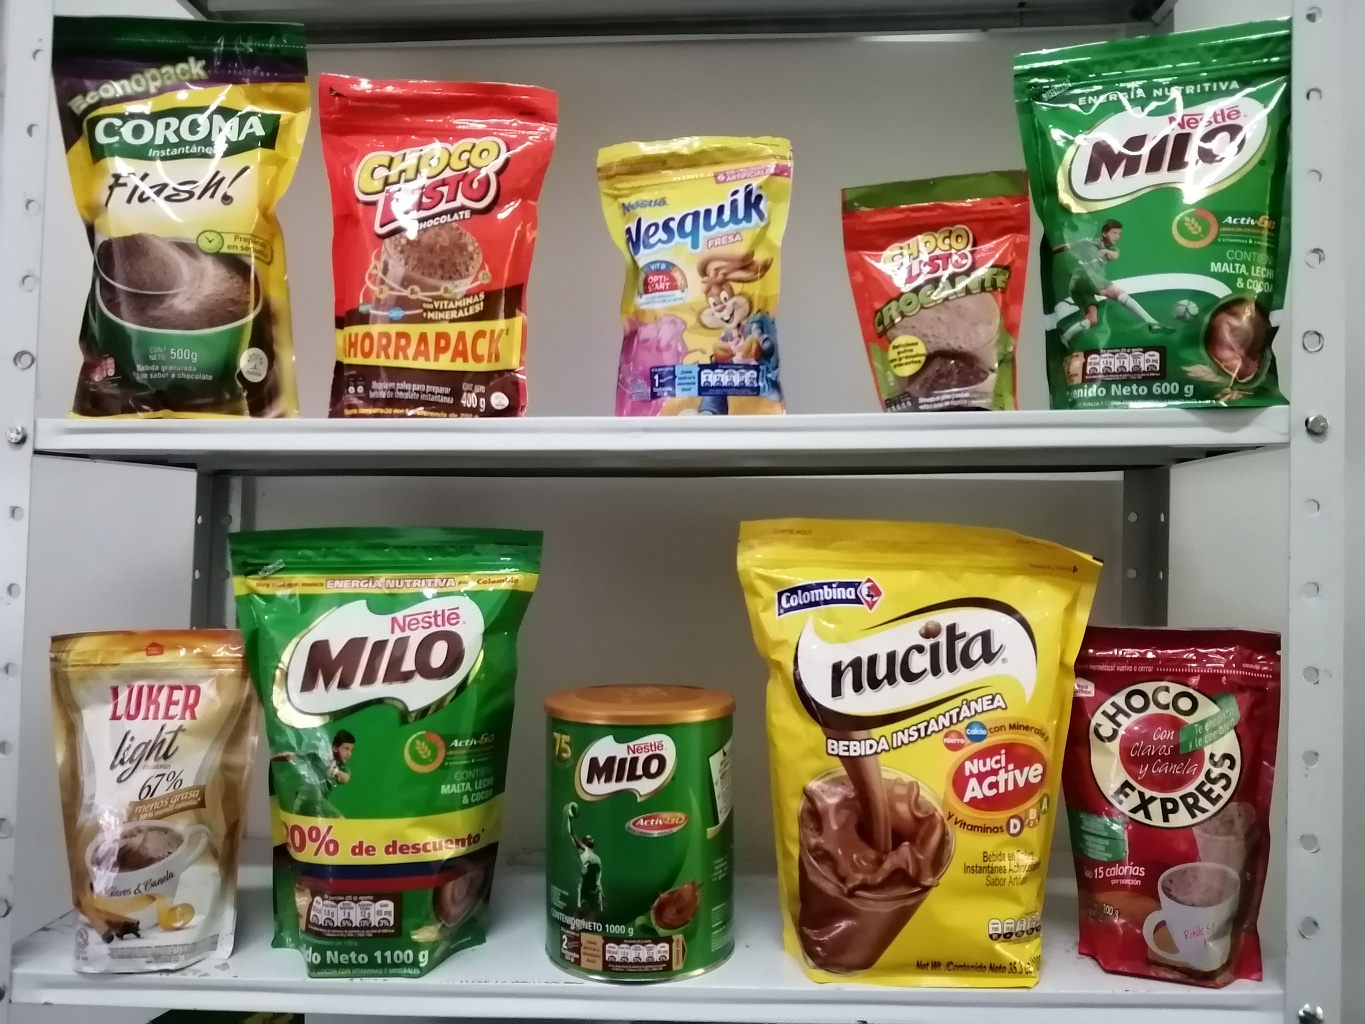COL0170102DYP10000: (824, 163, 1030, 414)
COL0170103DYP40000: (302, 63, 568, 422)
COL0170305DYP20000: (578, 119, 814, 404)
